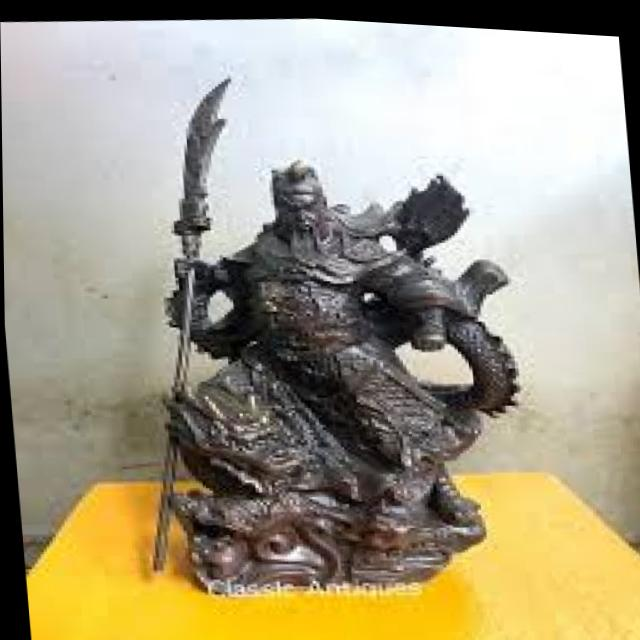Guan Yu: (160, 132, 453, 487)
